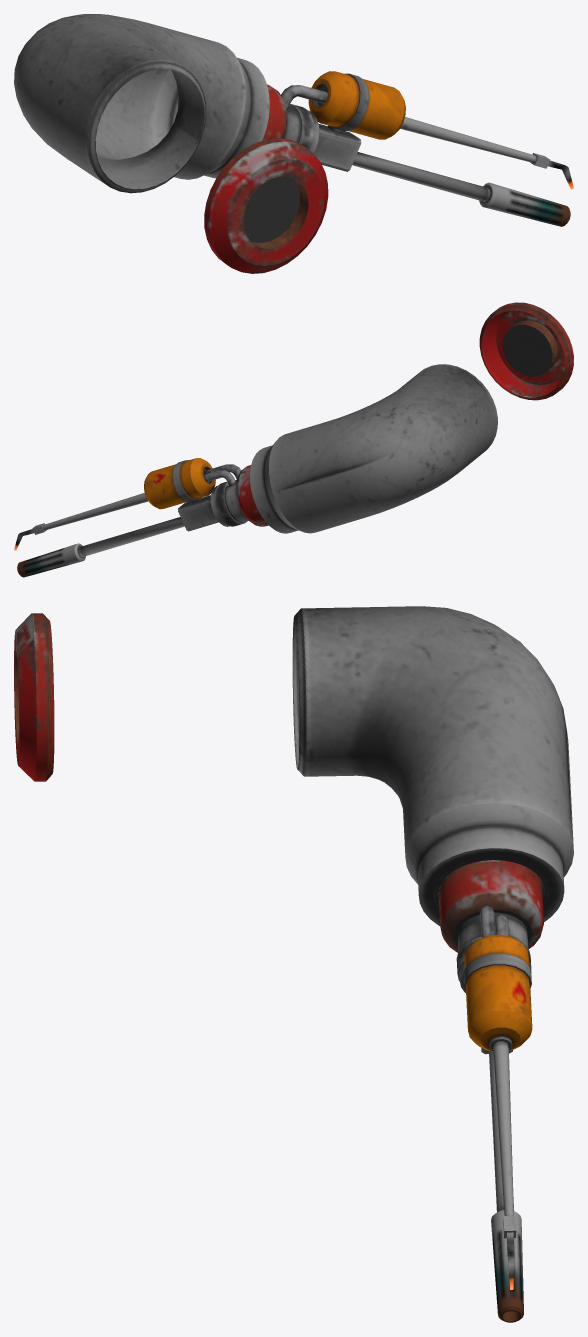
Rendered from asset_braco3.glb.
3 renders of one model, top to bottom at view 1: azimuth 30°, elevation 25°; view 2: azimuth 150°, elevation 25°; view 3: azimuth 270°, elevation 25°, orthographic. The views are drawn at different scales.
Visible parts, largest first — view 1: Arm3; view 2: Arm3; view 3: Arm3.
Part boxes in pixels (<box>): Arm3: <box>14,14,573,273</box>; Arm3: <box>14,302,573,577</box>; Arm3: <box>14,606,573,1322</box>.
Size of the model in its own units: 0.0774 by 0.0446 by 0.0544.
1 material, 1 textured.
